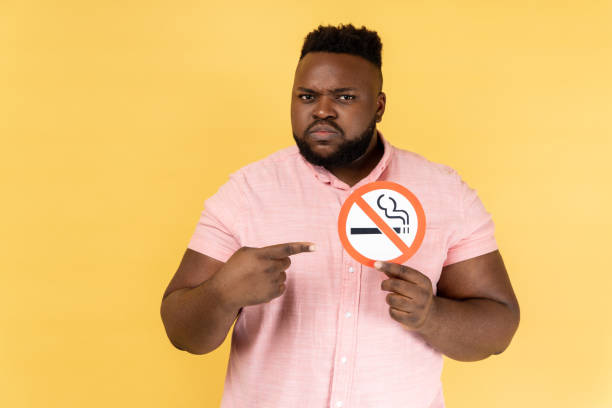cigarette: (351, 227, 412, 236)
